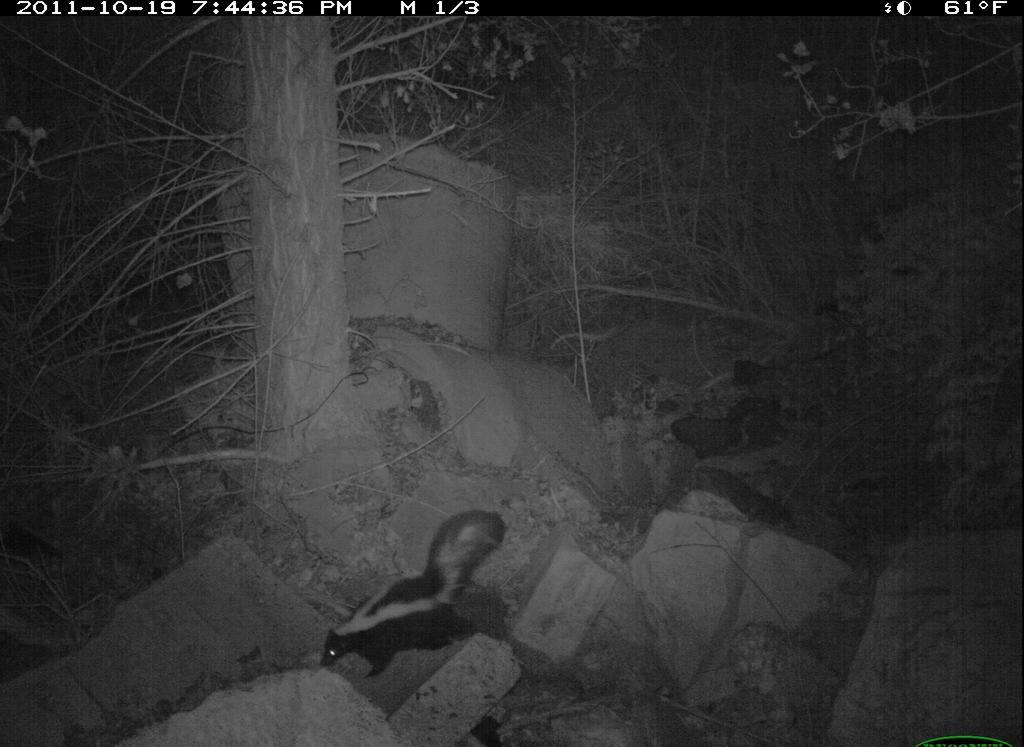skunk: (313, 509, 516, 680)
